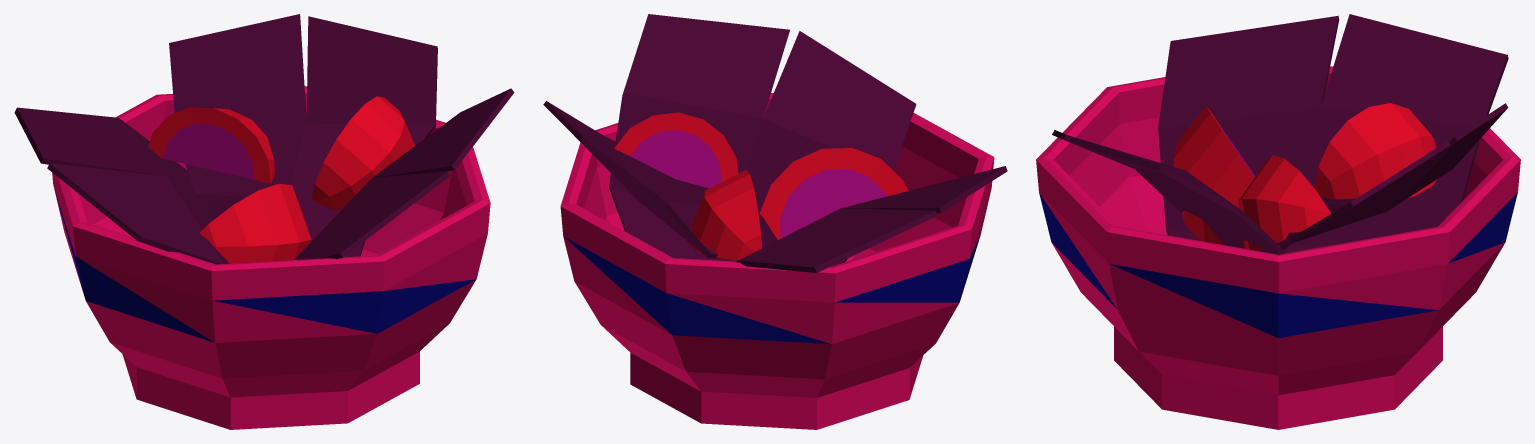
The model's file is Salad_01.fbx.
3 views of the same model, side by side, from view 1: azimuth 30°, elevation 25°; view 2: azimuth 150°, elevation 25°; view 3: azimuth 270°, elevation 25° (orthographic). The views are drawn at different scales.
Parts seen in each view (by area): view 1: Salad_01; view 2: Salad_01; view 3: Salad_01.
Boxes of the visible parts, box(x1,y1,x2,y2) form: Salad_01: box(14, 14, 514, 429); Salad_01: box(543, 14, 1007, 429); Salad_01: box(1036, 14, 1520, 429).
Bounding box in the file's own units: 7.79 × 5.09 × 7.69.
